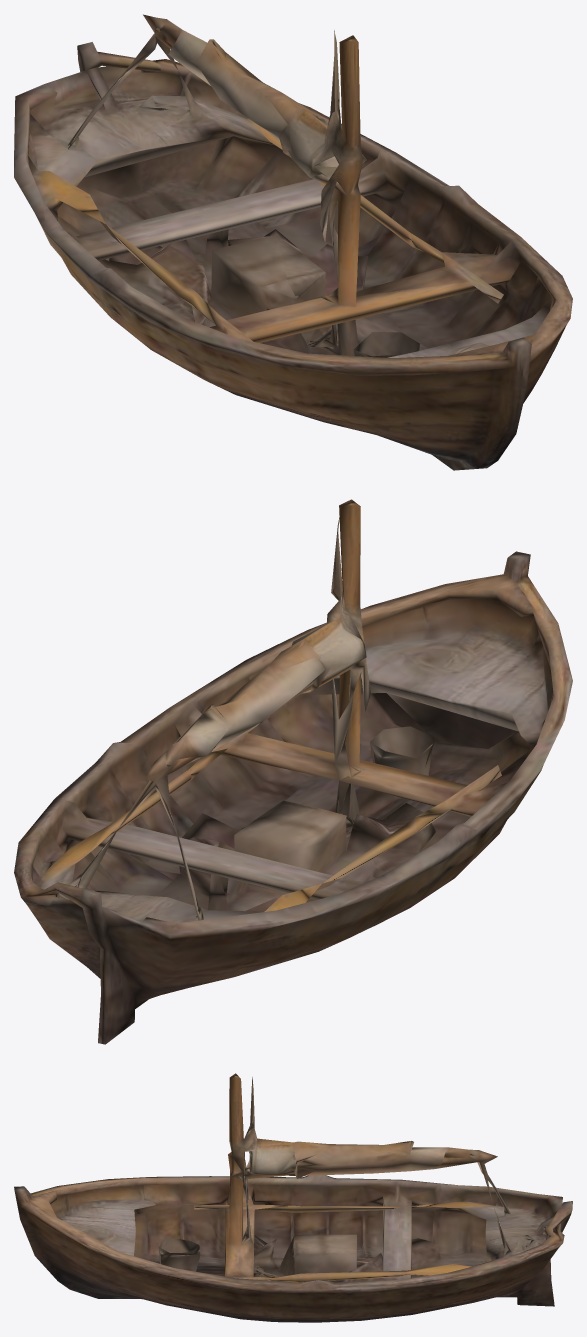
The model's file is boat_small.glb.
The picture shows the model from 3 angles, top to bottom: view 1: azimuth 30°, elevation 25°; view 2: azimuth 150°, elevation 25°; view 3: azimuth 270°, elevation 25°; orthographic projection. The views are drawn at different scales.
Visible parts, largest first — view 1: tripo_node_44b5ca99-46cf-4057-8aea-a484b87045d4; view 2: tripo_node_44b5ca99-46cf-4057-8aea-a484b87045d4; view 3: tripo_node_44b5ca99-46cf-4057-8aea-a484b87045d4.
Boxes of the visible parts, <box> form: tripo_node_44b5ca99-46cf-4057-8aea-a484b87045d4: <box>14,14,572,470</box>; tripo_node_44b5ca99-46cf-4057-8aea-a484b87045d4: <box>14,499,572,1044</box>; tripo_node_44b5ca99-46cf-4057-8aea-a484b87045d4: <box>14,1073,572,1322</box>.
Bounding box in the file's own units: 0.4632 × 0.4444 × 0.9797.
1 material, 1 textured.
